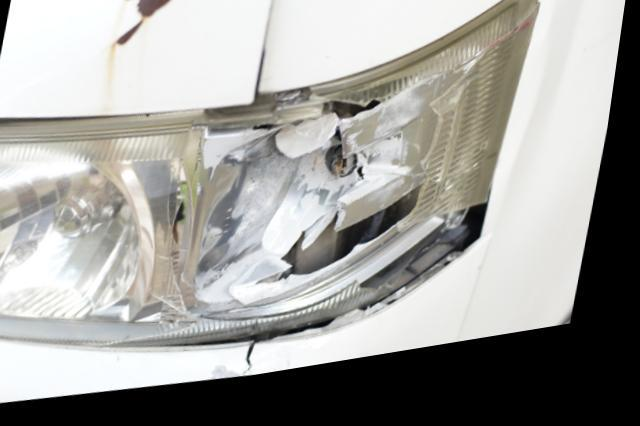crack: (256, 352, 268, 383)
lamp broken: (0, 0, 543, 349)
